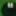black: (0, 0, 16, 16)
